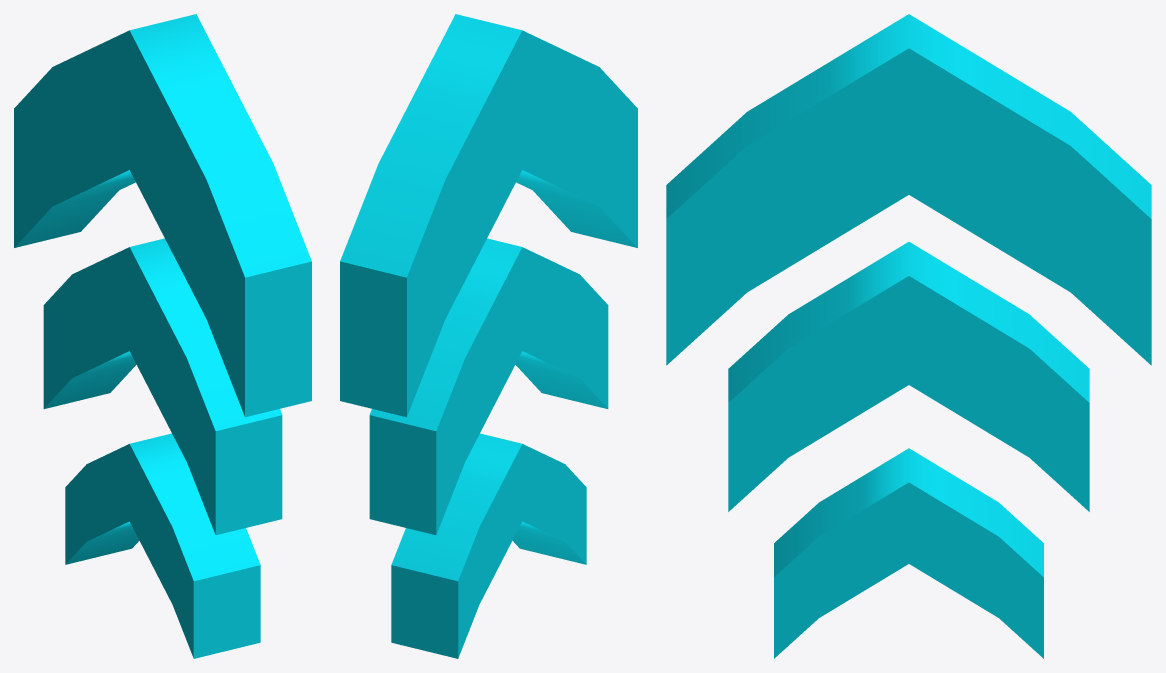
The model's file is Jump Model.FBX.
3 views of the same model, side by side, from view 1: azimuth 30°, elevation 25°; view 2: azimuth 150°, elevation 25°; view 3: azimuth 270°, elevation 25° (orthographic). The views are drawn at different scales.
Parts seen in each view (by area): view 1: Box001, Box003, Box002; view 2: Box001, Box003, Box002; view 3: Box001, Box003, Box002.
Part boxes in pixels (x1,y1,x2,y2): Box001: (14,14,311,417); Box003: (43,238,282,535); Box002: (65,433,260,658); Box001: (340,14,637,417); Box003: (369,238,608,535); Box002: (391,433,586,658); Box001: (666,14,1151,365); Box003: (728,242,1089,511); Box002: (774,448,1043,658).
Size of the model in its own units: 1.5 by 12.5 by 9.
Materials: 1 (1 with a texture image).
